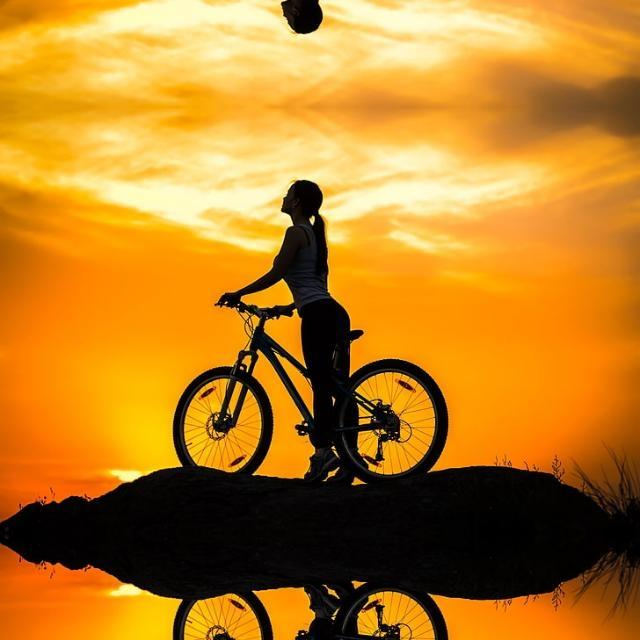obstacle: (153, 274, 512, 524), (152, 540, 511, 640)
